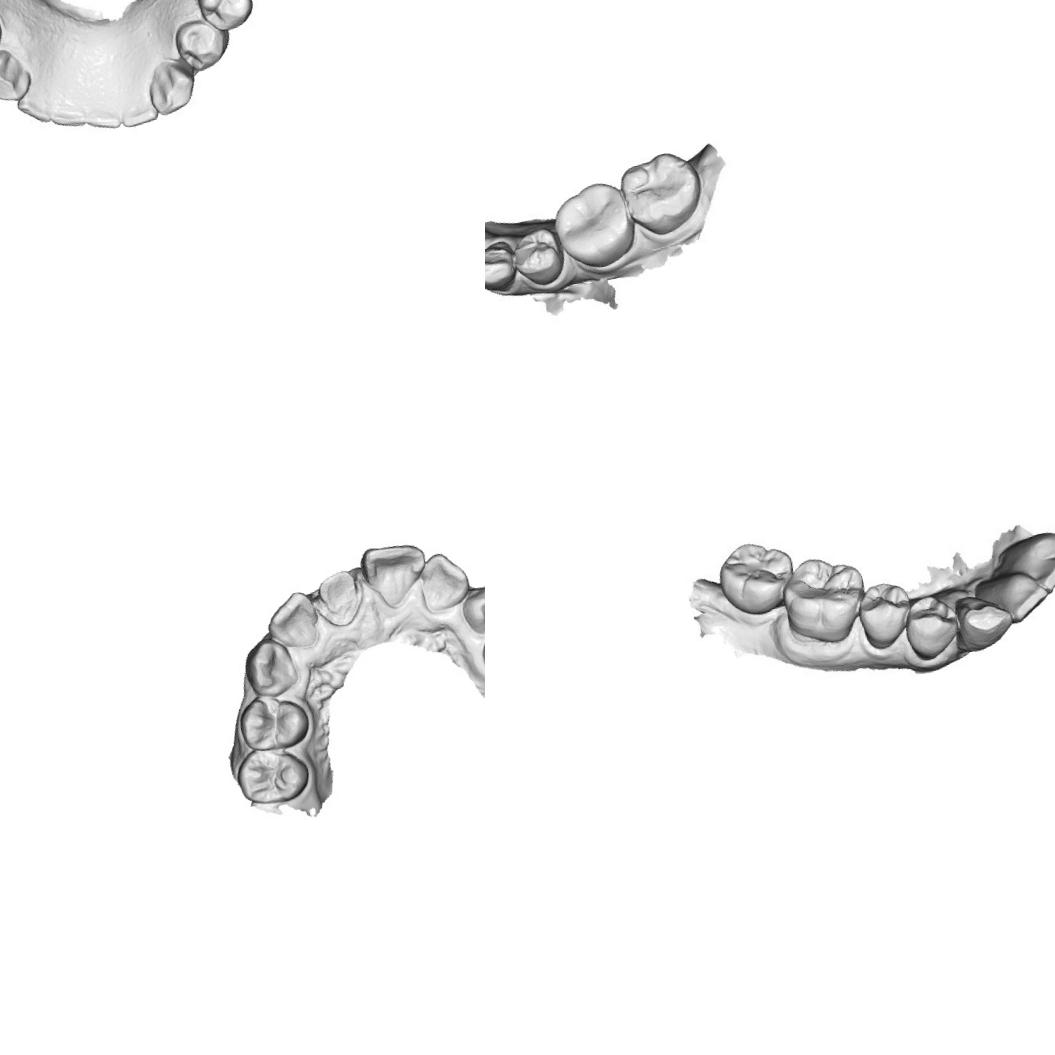canine: (943, 586, 1017, 660), (237, 632, 301, 702), (145, 58, 202, 118), (0, 44, 35, 105), (485, 238, 519, 295), (456, 578, 485, 639)
incisor: (356, 536, 435, 614), (973, 564, 1049, 630), (260, 588, 324, 654), (414, 546, 475, 615), (312, 566, 368, 630), (1007, 539, 1055, 601), (111, 98, 164, 136), (14, 88, 60, 130), (76, 102, 124, 140), (48, 96, 91, 136)
molar: (546, 176, 644, 281), (612, 144, 711, 243), (778, 550, 870, 646), (711, 534, 798, 624)
premolar: (230, 739, 314, 811), (232, 686, 313, 755), (848, 572, 914, 654), (896, 594, 964, 666), (505, 218, 570, 293), (175, 18, 230, 72), (199, 0, 249, 32)
